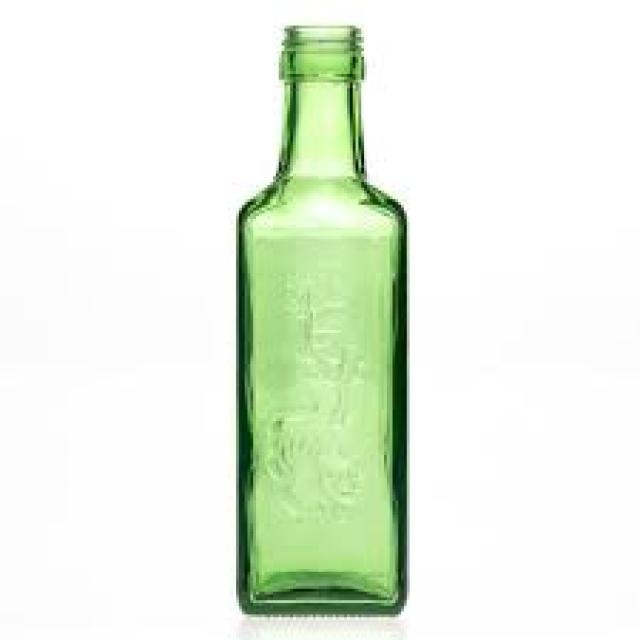glass: (236, 23, 407, 614)
